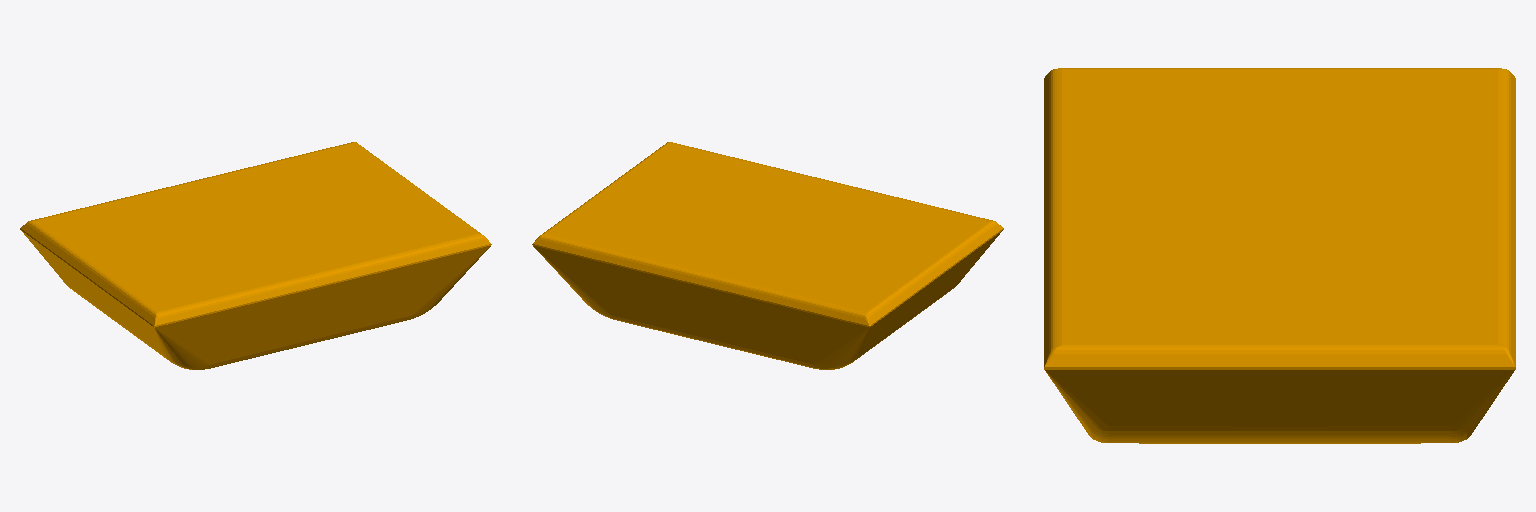
The robot description file, URDF, robot "root":
<robot name="root">
  <link name="link_bin_convex_piece_0">
    <inertial>
      <origin xyz="0 0 0" rpy="0 0 0"/>
      <mass value="4.20E+00"/>
      <inertia ixx="7.87E-02" ixy="-5.77E-19" ixz="2.88E-19" iyy="1.45E-01" iyz="7.21E-20" izz="1.95E-01"/>
    </inertial>
    <visual>
      <origin xyz="0 0 0" rpy="0 0 0"/>
      <geometry>
        <mesh filename="bin_convex_piece_0.obj" scale="1.0000E+00 1.0000E+00 1.0000E+00"/>
      </geometry>
      <material name=""/>
    </visual>
    <collision>
      <origin xyz="0 0 0" rpy="0 0 0"/>
      <geometry>
        <mesh filename="bin_convex_piece_0.obj" scale="1.0000E+00 1.0000E+00 1.0000E+00"/>
      </geometry>
    </collision>
  </link>
</robot>

--- Render facts (derived) ---
3 views of the same robot in one strip: view 1: azimuth 30°, elevation 25°; view 2: azimuth 150°, elevation 25°; view 3: azimuth 270°, elevation 25° (orthographic).
Robot: root — 1 links, 0 joints (none); root link link_bin_convex_piece_0; default pose: every joint at zero.
Links seen in each view (by area): view 1: link_bin_convex_piece_0; view 2: link_bin_convex_piece_0; view 3: link_bin_convex_piece_0.
Link boxes in pixels (x1,y1,x2,y2): link_bin_convex_piece_0: [20, 142, 491, 369]; link_bin_convex_piece_0: [532, 142, 1003, 369]; link_bin_convex_piece_0: [1044, 68, 1515, 443].
Size in the robot's own frame: 0.6779 by 0.4662 by 0.1546 metres.
1 mesh visuals loaded from 1 distinct referenced files (1 OBJ).